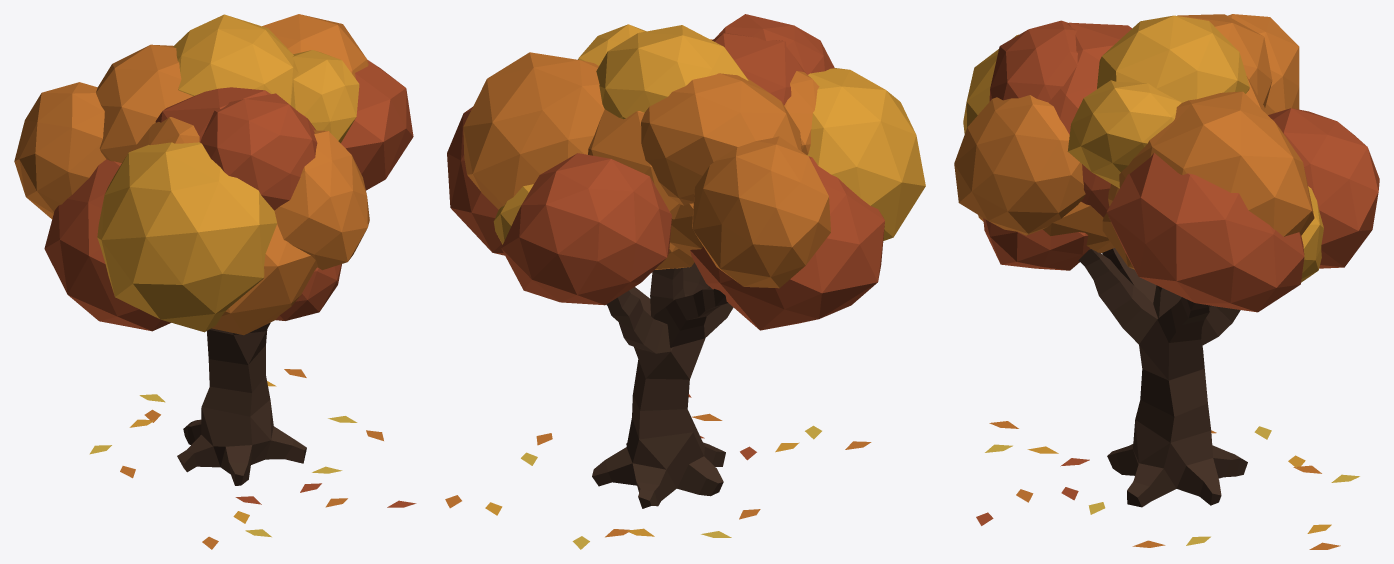
Rendered from SM_Tree_Oak_Autumn_02.glb.
3 views of the same model, side by side, from view 1: azimuth 30°, elevation 25°; view 2: azimuth 150°, elevation 25°; view 3: azimuth 270°, elevation 25° (orthographic). The views are drawn at different scales.
Parts seen in each view (by area): view 1: SM_Tree_Oak_Autumn_02; view 2: SM_Tree_Oak_Autumn_02; view 3: SM_Tree_Oak_Autumn_02.
Boxes of the visible parts, bbox=[...] form: SM_Tree_Oak_Autumn_02: bbox=[14, 14, 416, 549]; SM_Tree_Oak_Autumn_02: bbox=[445, 14, 925, 549]; SM_Tree_Oak_Autumn_02: bbox=[954, 14, 1379, 549].
Bounding box in the file's own units: 3.71 × 4.18 × 3.54.
